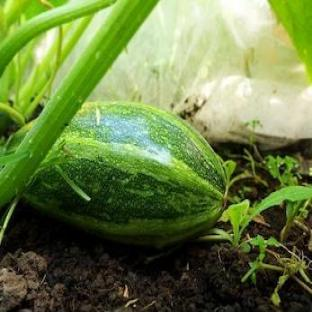Zucchini: (25, 102, 225, 247)
